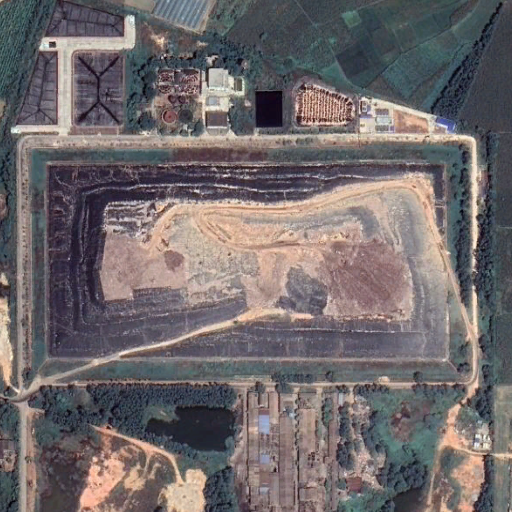lf: (45, 159, 446, 360)
